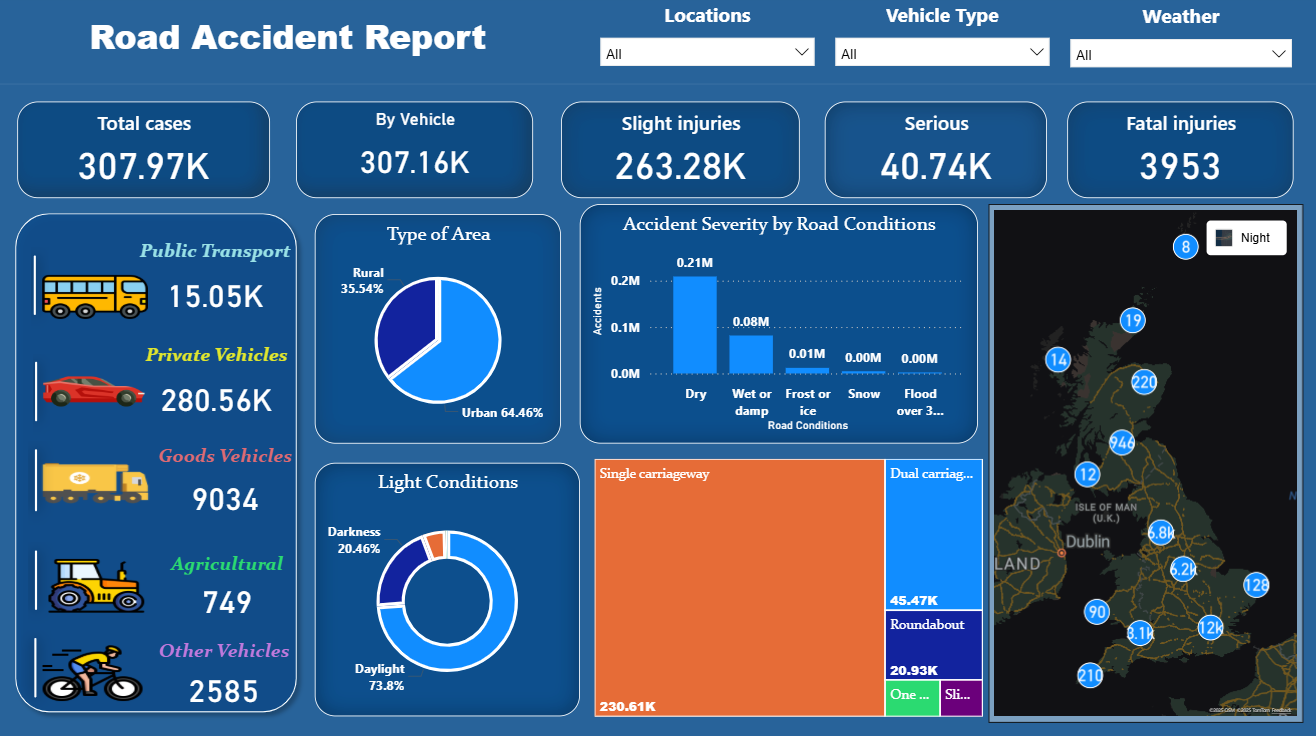

The dashboard page shown, as its layout file describes it:
{"tool":"powerbi","page":{"name":"Main","canvas":[1280,720],"ordinal":0},"visuals":[{"type":"shape","box":[0,0,1279.8,87.1],"z":0},{"type":"shape","box":[9.7,203.4,290.5,501.1],"z":1000},{"type":"card","title":"Total cases","fields":{"Values":["CountNonNull(Table1.Accident_Severity)"]},"box":[20.6,104.1,244.5,93.2],"z":2000},{"type":"card","title":"Slight injuries","fields":{"Values":["CountNonNull(Table1.Accident_Severity)"]},"box":[547.1,104.1,231.2,93.2],"z":3000},{"type":"card","title":"Serious","fields":{"Values":["CountNonNull(Table1.Accident_Severity)"]},"box":[802.6,104.1,215.5,93.2],"z":4000},{"type":"card","title":"Fatal injuries","fields":{"Values":["CountNonNull(Table1.Accident_Severity)"]},"box":[1037.4,104.1,219.1,93.2],"z":5000},{"type":"azureMap","fields":{"X":["Table1.Longitude"],"Y":["Table1.Latitude"],"Series":["Table1.Local_Authority_(District)"]},"box":[960.6,203.1,304.6,502.2],"z":6000},{"type":"slicer","title":"Locations ","fields":{"Values":["Table1.Local_Authority_(District)"]},"box":[575,6.9,227.8,93.3],"z":7000},{"type":"pieChart","title":"Type of Area","fields":{"Y":["CountNonNull(Table1.Accident_Severity)"],"Category":["Table1.Urban_or_Rural_Area"]},"box":[308.7,212.7,238.8,222.3],"z":8000},{"type":"donutChart","title":"Light Conditions ","fields":{"Category":["Table1.Light_Conditions"],"Y":["CountNonNull(Table1.Accident_Severity)"]},"box":[308.7,453.9,256.6,245.7],"z":9000},{"type":"treemap","title":"No of Accidents on Road_Surface & Road Type","fields":{"Values":["CountNonNull(Table1.Accident_Severity)"],"Details":["Table1.Road_Type"]},"box":[575,446,385.6,259.3],"z":10000},{"type":"columnChart","title":"Accident Severity by Road Conditions","fields":{"Category":["Table1.Road_Surface_Conditions"],"Y":["CountNonNull(Table1.Accident_Severity)"]},"box":[565.4,203.1,385.6,231.9],"z":11000},{"type":"slicer","title":"Vehicle Type","fields":{"Values":["Table1.Vehicle_Type"]},"box":[802.7,6.9,227.8,75.5],"z":12000},{"type":"card","title":"Other Vehicles","fields":{"Values":["CountNonNull(Table1.Vehicle_Type)"]},"box":[151.3,624.6,139.2,73.8],"z":13000},{"type":"card","title":"Goods Vehicles","fields":{"Values":["CountNonNull(Table1.Vehicle_Type)"]},"box":[145.3,435.8,153.7,79.9],"z":14000},{"type":"card","title":"Private Vehicles","fields":{"Values":["CountNonNull(Table1.Vehicle_Type)"]},"box":[131.9,337.7,163.4,84.7],"z":15000},{"type":"card","title":"Public Transport","fields":{"Values":["CountNonNull(Table1.Vehicle_Type)"]},"box":[129.5,237.3,165.8,84.7],"z":16000},{"type":"card","title":"Agricultural ","fields":{"Values":["CountNonNull(Table1.Vehicle_Type)"]},"box":[139.2,539.9,169.5,72.6],"z":17000},{"type":"image","box":[36.3,435.8,119.8,76.3],"z":18000},{"type":"image","box":[46,536.3,102.9,73.8],"z":19000},{"type":"image","box":[39.9,337.7,110.2,94.4],"z":20000},{"type":"image","box":[39.9,249.4,112.6,88.4],"z":21000},{"type":"image","box":[38.7,621,110.2,73.8],"z":22000},{"type":"slicer","title":"Weather","fields":{"Values":["Table1.Weather_Conditions"]},"box":[1030.5,8.2,234.6,89.2],"z":23000},{"type":"textbox","title":"Road Accident Report","box":[0,17.8,565.4,52.1],"z":24000},{"type":"card","title":"By Vehicle","fields":{"Values":["CountNonNull(Table1.Accident_Severity)"]},"box":[290.5,104.1,230,93.2],"z":25000},{"type":"shape","box":[23,239.7,27.8,84.7],"z":26000},{"type":"shape","box":[24.2,342.6,27.8,84.7],"z":27000},{"type":"shape","box":[20.6,427.3,36.3,87.2],"z":28000},{"type":"shape","box":[14.5,610.1,47.2,84.7],"z":29000},{"type":"shape","box":[20.6,525.4,36.3,84.7],"z":30000}]}

Visuals, with their boxes in screenshot pixels (x1, y1, x2, y2), scaled from the page's 1280x720 canvas onto the 1316x736 screenshot:
shape: Rect(0, 0, 1315, 89)
shape: Rect(10, 208, 309, 720)
"Total cases" card: Rect(21, 106, 273, 202)
"Slight injuries" card: Rect(562, 106, 800, 202)
"Serious" card: Rect(825, 106, 1047, 202)
"Fatal injuries" card: Rect(1067, 106, 1292, 202)
azureMap - Table1.Longitude x Table1.Latitude: Rect(988, 208, 1301, 721)
"Locations " slicer: Rect(591, 7, 825, 102)
"Type of Area" pieChart: Rect(317, 217, 563, 445)
"Light Conditions " donutChart: Rect(317, 464, 581, 715)
"No of Accidents on Road_Surface & Road Type" treemap: Rect(591, 456, 988, 721)
"Accident Severity by Road Conditions" columnChart: Rect(581, 208, 978, 445)
"Vehicle Type" slicer: Rect(825, 7, 1059, 84)
"Other Vehicles" card: Rect(156, 638, 299, 714)
"Goods Vehicles" card: Rect(149, 445, 307, 527)
"Private Vehicles" card: Rect(136, 345, 304, 432)
"Public Transport" card: Rect(133, 243, 304, 329)
"Agricultural " card: Rect(143, 552, 317, 626)
image: Rect(37, 445, 160, 523)
image: Rect(47, 548, 153, 624)
image: Rect(41, 345, 154, 442)
image: Rect(41, 255, 157, 345)
image: Rect(40, 635, 153, 710)
"Weather" slicer: Rect(1059, 8, 1301, 100)
"Road Accident Report" textbox: Rect(0, 18, 581, 71)
"By Vehicle" card: Rect(299, 106, 535, 202)
shape: Rect(24, 245, 52, 332)
shape: Rect(25, 350, 53, 437)
shape: Rect(21, 437, 59, 526)
shape: Rect(15, 624, 63, 710)
shape: Rect(21, 537, 59, 624)
